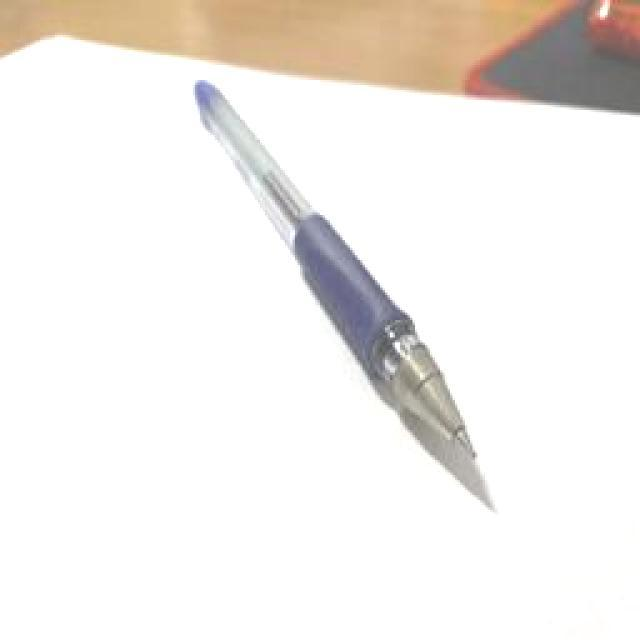pen: (192, 75, 482, 465)
